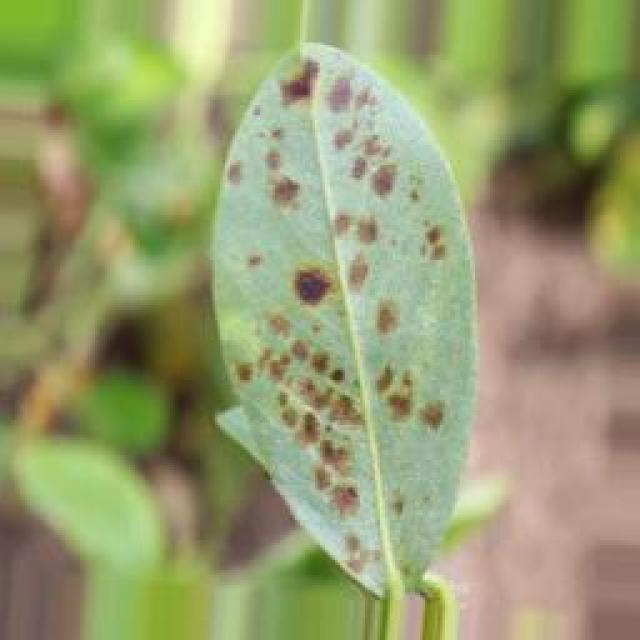Whitefly: (217, 21, 481, 580)
